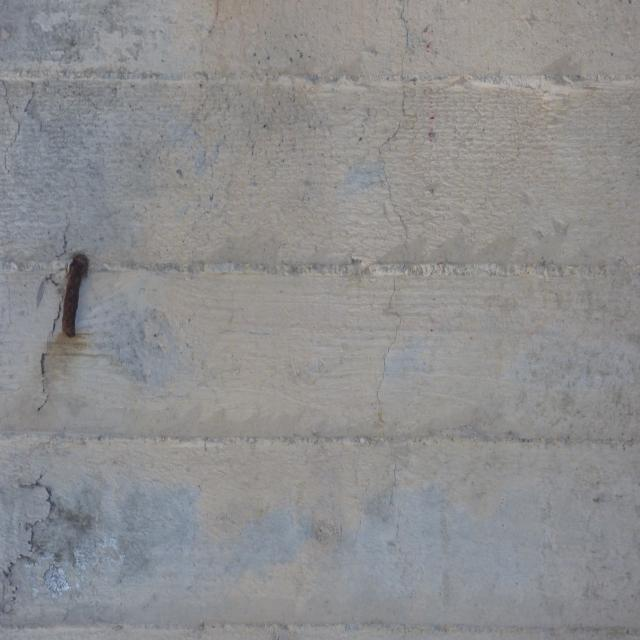corrosion: (31, 241, 115, 398)
